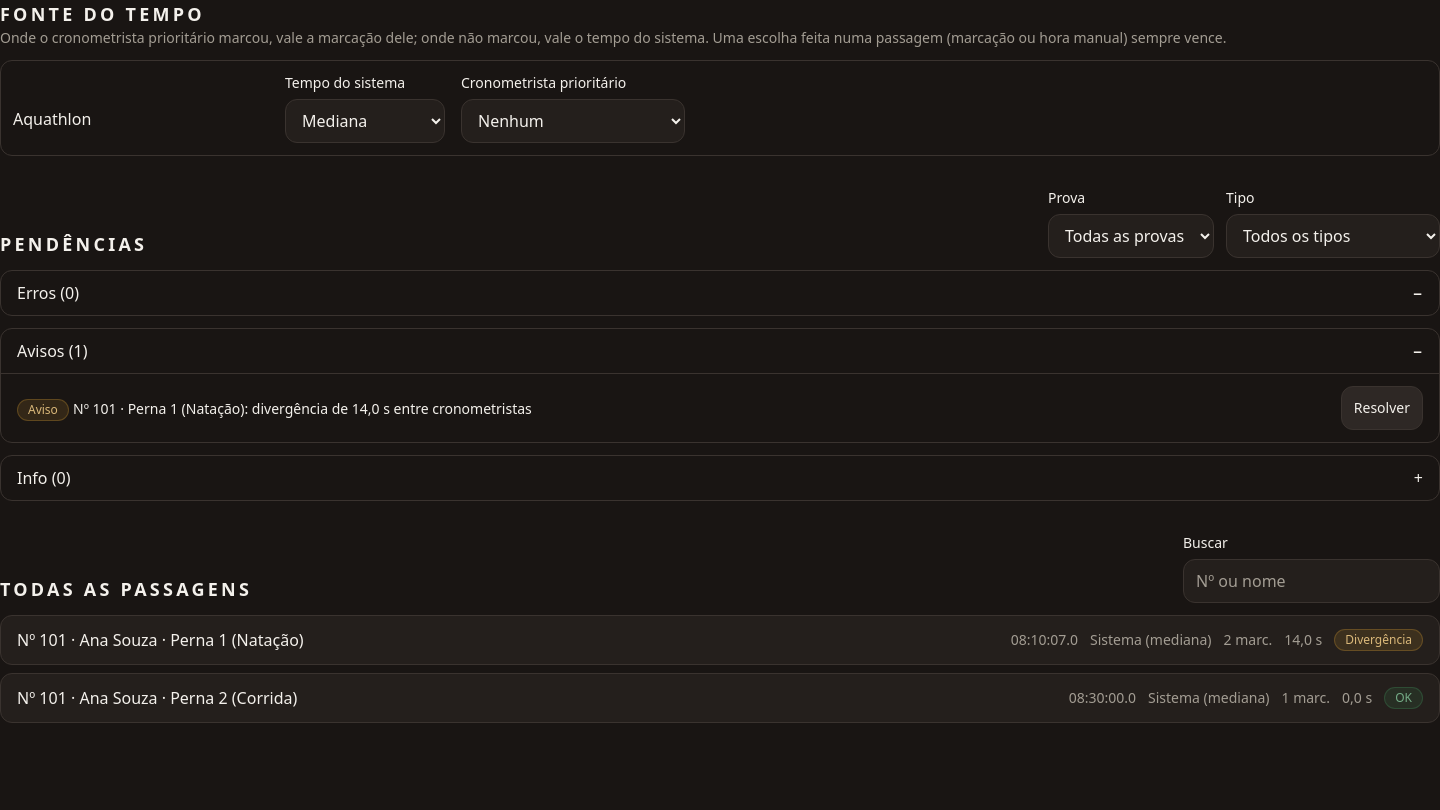
Test: ReviewTab: resolving a divergence › shows the system (median) time by default
This screenshot has width=1440, height=810.
Click the button "Resolver": (1382, 408) top-left (1341, 386), bottom-right (1423, 430)
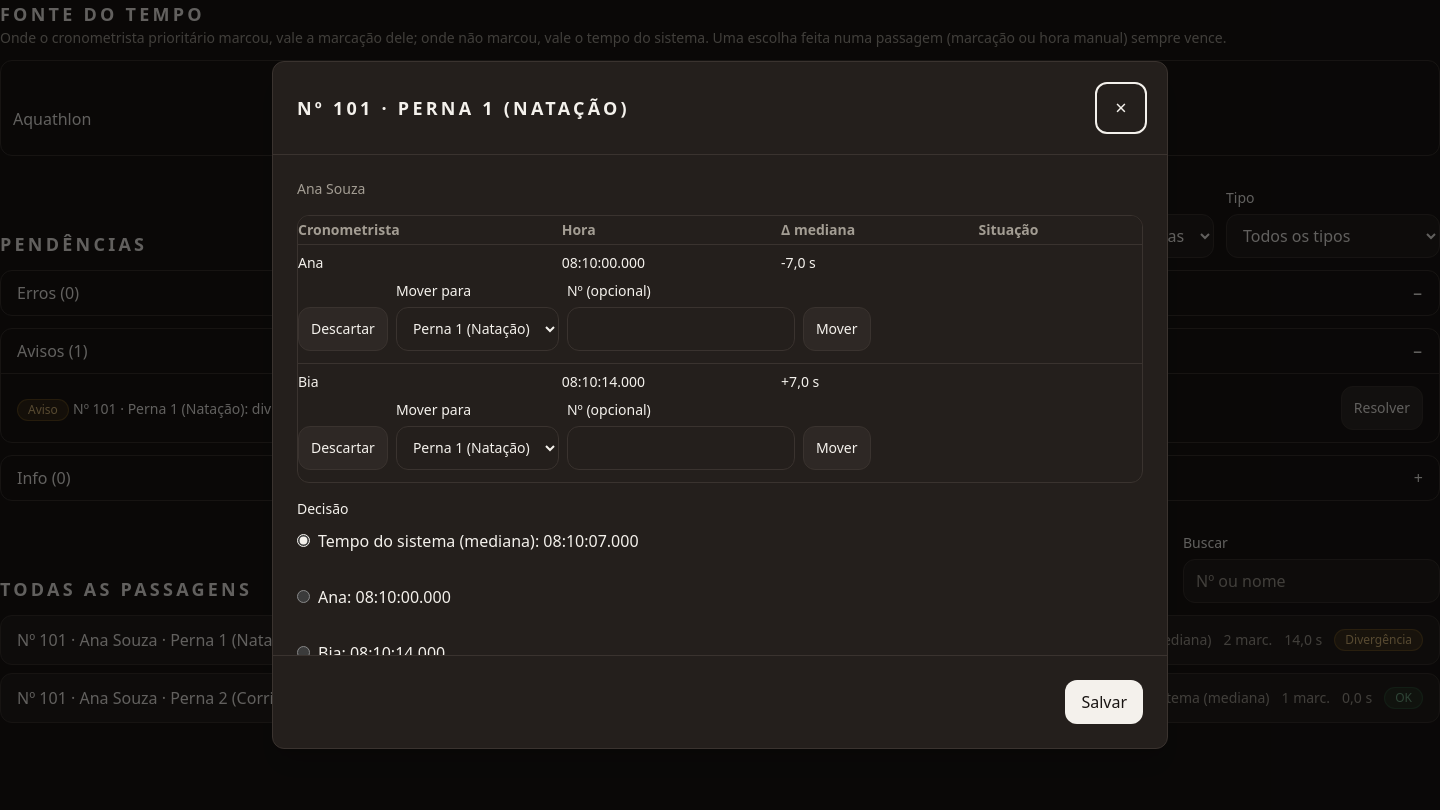
Expected: the radio button with test id "resolution-system" is checked, top-left (297, 534), bottom-right (310, 547)
Expected: the text "Tempo do sistema (mediana): 08:10:07.000" is shown, top-left (318, 529), bottom-right (639, 553)
